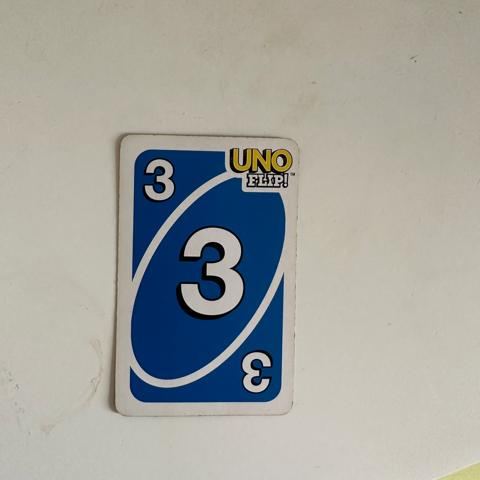lblue-3: (130, 143, 190, 219)
